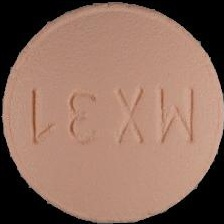53808-0906: (0, 0, 224, 224)
